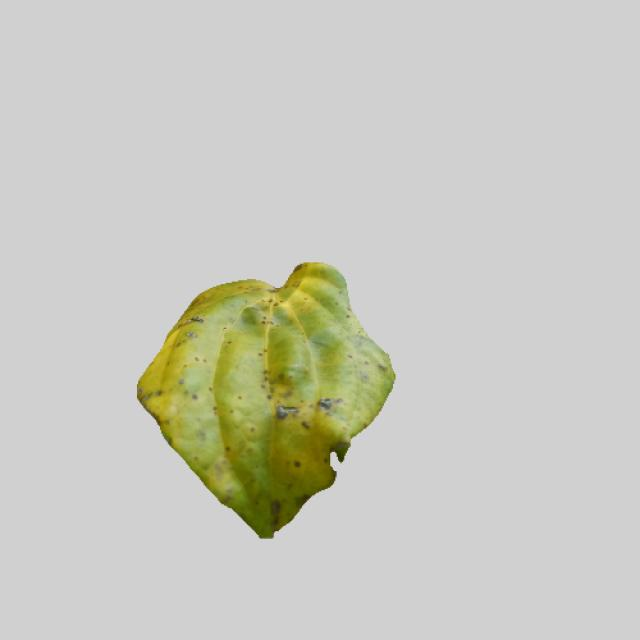yellow-mottle-virus: (121, 256, 396, 539)
